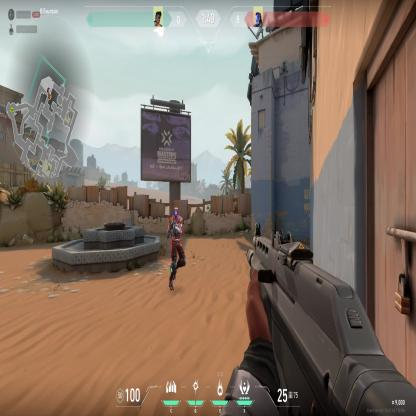enemy: (166, 205, 187, 291)
